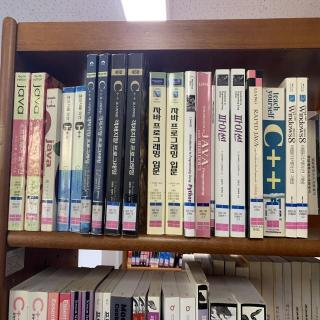book-spine: (122, 53, 142, 236), (105, 53, 125, 235), (8, 72, 30, 231), (23, 72, 45, 231), (262, 87, 285, 236), (91, 53, 108, 235), (147, 72, 166, 234), (165, 72, 183, 235), (80, 54, 96, 234), (56, 86, 75, 232), (40, 88, 58, 232), (248, 70, 263, 238), (69, 85, 86, 232), (196, 72, 211, 237), (231, 69, 245, 238), (215, 69, 229, 237), (184, 71, 195, 237), (287, 77, 297, 238), (297, 78, 307, 238), (210, 86, 215, 236)
